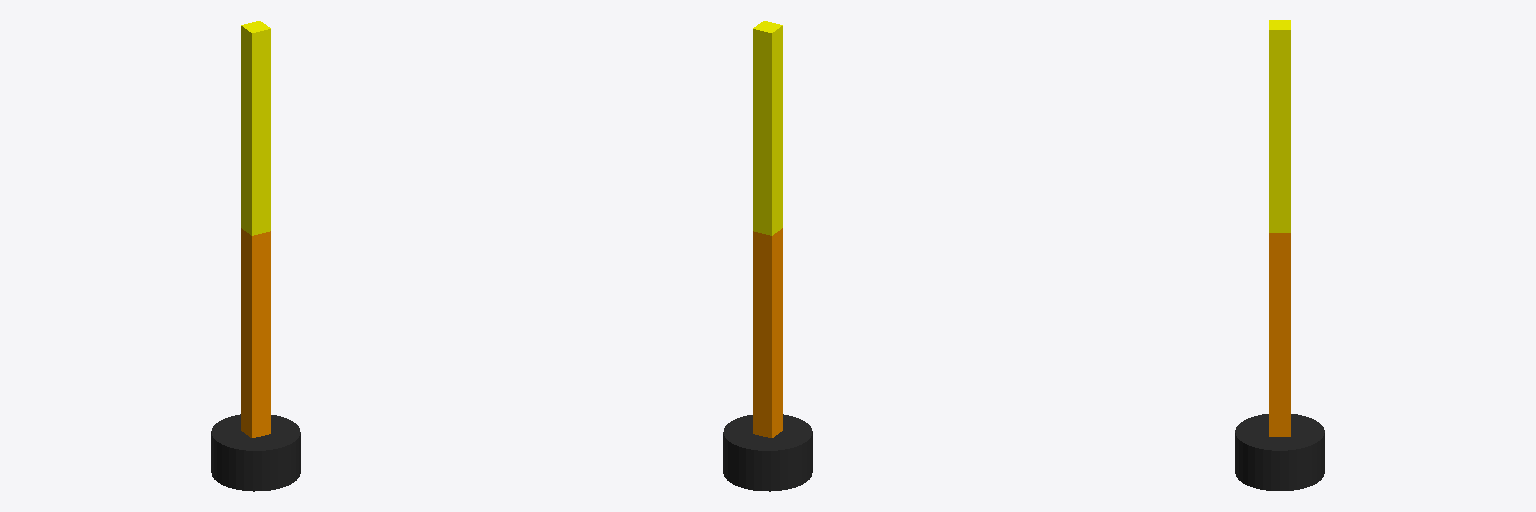
robot.urdf — two_dof_arm:
<?xml version="1.0" ?>
<!-- =================================================================================== -->
<!-- |    This document was autogenerated by xacro from two_dof_arm.urdf.xacro         | -->
<!-- |    EDITING THIS FILE BY HAND IS NOT RECOMMENDED                                 | -->
<!-- =================================================================================== -->
<robot name="two_dof_arm">
  <link name="base_link">
    <visual>
      <geometry>
        <cylinder length="0.1" radius="0.1"/>
      </geometry>
      <origin rpy="0 0 0" xyz="0 0 0.05"/>
      <material name="gray">
        <color rgba="0.2 0.2 0.2 1"/>
      </material>
    </visual>
    <collision>
      <geometry>
        <cylinder length="0.1" radius="0.1"/>
      </geometry>
      <origin rpy="0 0 0" xyz="0 0 0.05"/>
    </collision>
    <inertial>
      <mass value="10.0"/>
      <inertia ixx="0.03333333333333334" ixy="0.0" ixz="0.0" iyy="0.03333333333333334" iyz="0.0" izz="0.05000000000000001"/>
    </inertial>
  </link>
  <link name="link1">
    <visual>
      <geometry>
        <box size="0.05 0.05 0.5"/>
      </geometry>
      <origin rpy="0 0 0" xyz="0 0 0.25"/>
      <material name="orange">
        <color rgba="1 0.6 0 1"/>
      </material>
    </visual>
    <collision>
      <geometry>
        <box size="0.05 0.05 0.5"/>
      </geometry>
      <origin rpy="0 0 0" xyz="0 0 0.25"/>
    </collision>
    <inertial>
      <mass value="1.0"/>
      <inertia ixx="0.021041666666666667" ixy="0.0" ixz="0.0" iyy="0.00041666666666666675" iyz="0.0" izz="0.021041666666666667"/>
    </inertial>
  </link>
  <joint name="joint1" type="revolute">
    <parent link="base_link"/>
    <child link="link1"/>
    <origin rpy="0 0 0" xyz="0 0 0.1"/>
    <axis xyz="0 0 1"/>
    <limit effort="100" lower="-3.14" upper="3.14" velocity="1.0"/>
  </joint>
  <link name="link2">
    <visual>
      <geometry>
        <box size="0.05 0.05 0.5"/>
      </geometry>
      <origin rpy="0 0 0" xyz="0 0 0.25"/>
      <material name="yellow">
        <color rgba="1 1 0 1"/>
      </material>
    </visual>
    <collision>
      <geometry>
        <box size="0.05 0.05 0.5"/>
      </geometry>
      <origin rpy="0 0 0" xyz="0 0 0.25"/>
    </collision>
    <inertial>
      <mass value="1.0"/>
      <inertia ixx="0.021041666666666667" ixy="0.0" ixz="0.0" iyy="0.00041666666666666675" iyz="0.0" izz="0.021041666666666667"/>
    </inertial>
  </link>
  <joint name="joint2" type="revolute">
    <parent link="link1"/>
    <child link="link2"/>
    <origin rpy="0 0 0" xyz="0 0 0.5"/>
    <axis xyz="0 1 0"/>
    <limit effort="100" lower="-1.57" upper="1.57" velocity="1.0"/>
  </joint>
</robot>

--- What the picture shows (computed from the rendered views, not written in the file) ---
Views: 3 orthographic renders of the robot side by side, from view 1: azimuth 30°, elevation 25°; view 2: azimuth 150°, elevation 25°; view 3: azimuth 270°, elevation 25°.
Model two_dof_arm with 3 links and 2 joints (2 revolute), rooted at base_link, posed every joint at zero.
Visible links, largest first — view 1: link2, link1, base_link; view 2: link2, link1, base_link; view 3: base_link, link2, link1.
Boxes of the visible links, left/top/right/bottom form: link2: left=241, top=21, right=270, bottom=235; link1: left=241, top=228, right=270, bottom=437; base_link: left=211, top=414, right=300, bottom=491; link2: left=753, top=21, right=782, bottom=235; link1: left=753, top=228, right=782, bottom=437; base_link: left=723, top=414, right=812, bottom=491; base_link: left=1235, top=414, right=1324, bottom=490; link2: left=1269, top=20, right=1290, bottom=232; link1: left=1269, top=233, right=1290, bottom=436.
Size in the robot's own frame: 0.2 by 0.2 by 1.1 metres.
Geometry: primitives only (box / cylinder / sphere), no mesh files.
